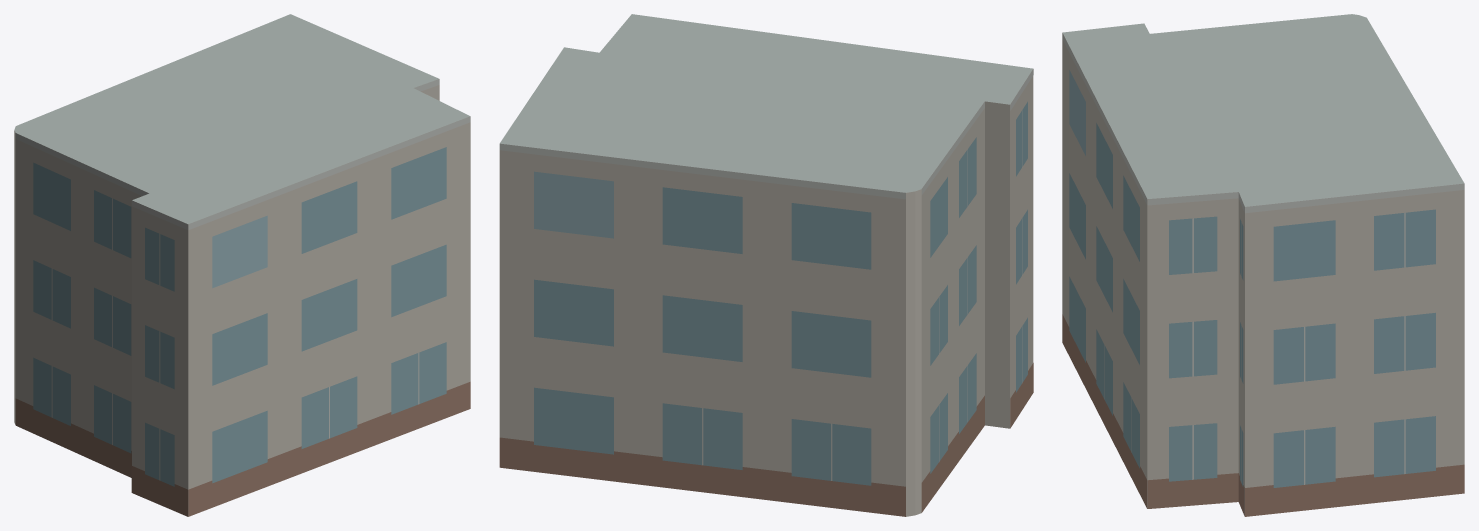
File: survey-upis-33000047.glb
3 views of the same model, side by side, from view 1: azimuth 30°, elevation 25°; view 2: azimuth 150°, elevation 25°; view 3: azimuth 270°, elevation 25° (orthographic). The views are drawn at different scales.
Parts seen in each view (by area): view 1: survey-upis-33000047.tmp; view 2: survey-upis-33000047.tmp; view 3: survey-upis-33000047.tmp.
Part boxes in pixels (x1,y1,x2,y2): survey-upis-33000047.tmp: [14, 14, 470, 516]; survey-upis-33000047.tmp: [499, 14, 1033, 516]; survey-upis-33000047.tmp: [1062, 14, 1464, 516].
Bounding box in the file's own units: 15.97 × 11.95 × 14.07.
